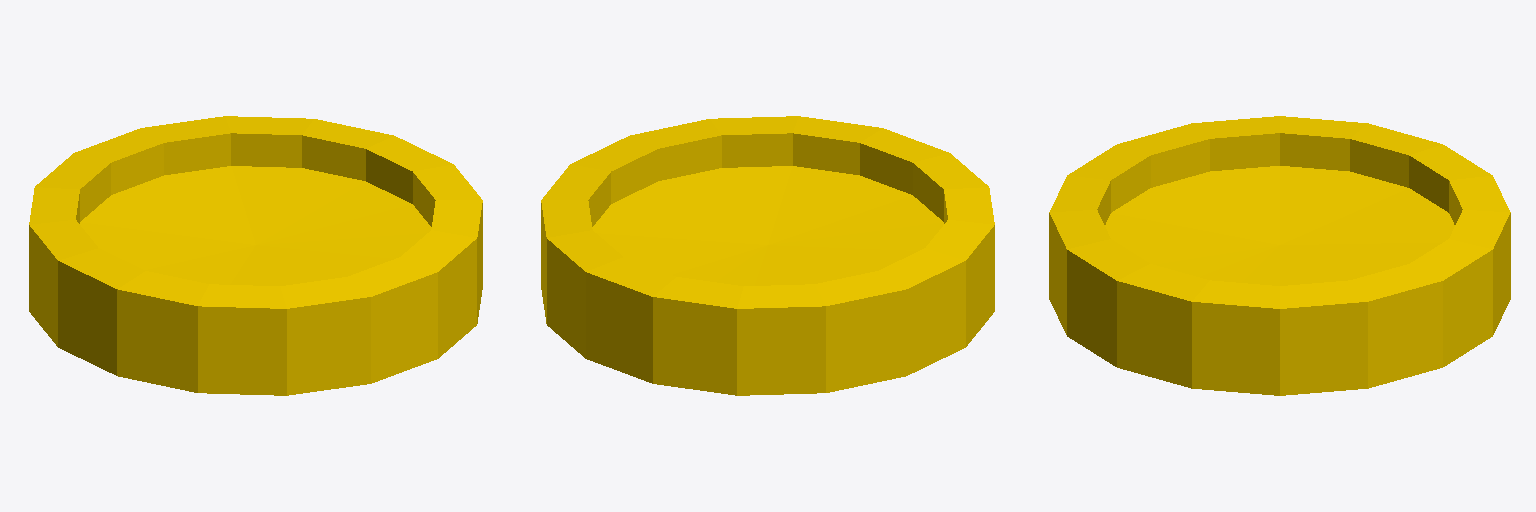
File: Coin.obj
3 views of the same model, side by side, from view 1: azimuth 30°, elevation 25°; view 2: azimuth 150°, elevation 25°; view 3: azimuth 270°, elevation 25° (orthographic).
Parts seen in each view (by area): view 1: Coin; view 2: Coin; view 3: Coin.
Boxes of the visible parts, box(x1,y1,x2,y2) form: Coin: box(29, 116, 482, 395); Coin: box(541, 116, 994, 395); Coin: box(1049, 116, 1510, 395).
Bounding box in the file's own units: 0.7046 × 0.1574 × 0.7113.